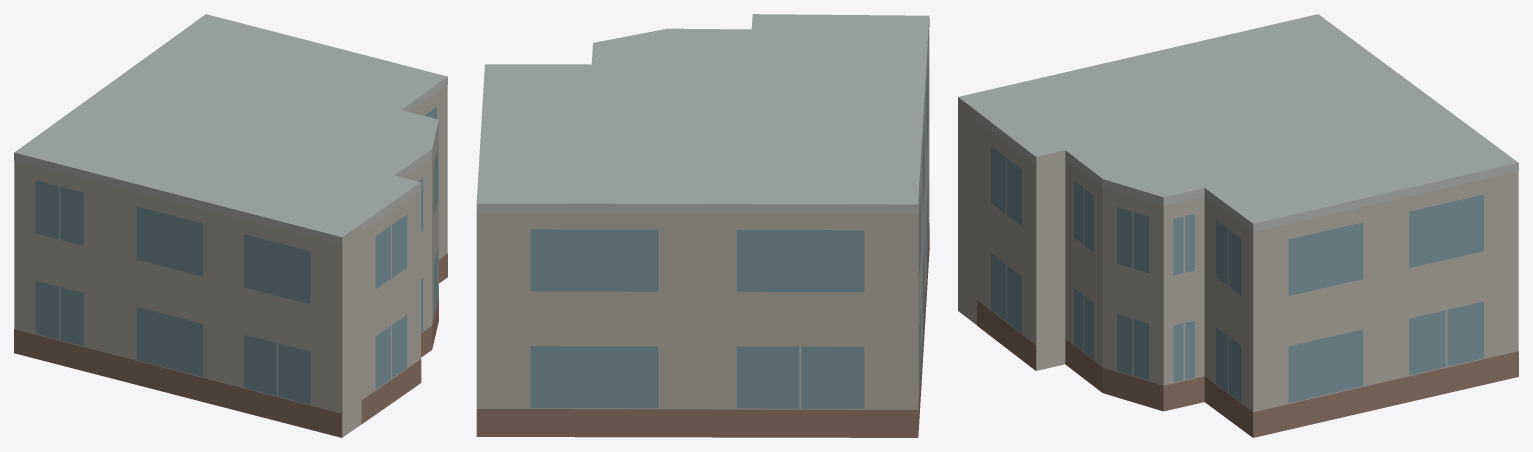
File: survey-upis-32652633.glb
The picture shows the model from 3 angles, left to right: view 1: azimuth 30°, elevation 25°; view 2: azimuth 150°, elevation 25°; view 3: azimuth 270°, elevation 25°; orthographic projection. The views are drawn at different scales.
Visible parts, largest first — view 1: survey-upis-32652633.tmp; view 2: survey-upis-32652633.tmp; view 3: survey-upis-32652633.tmp.
Part boxes in pixels (<box>): survey-upis-32652633.tmp: <box>14,14,447,437</box>; survey-upis-32652633.tmp: <box>476,14,929,437</box>; survey-upis-32652633.tmp: <box>958,14,1518,437</box>.
Bounding box in the file's own units: 12.83 × 6.1 × 14.49.
